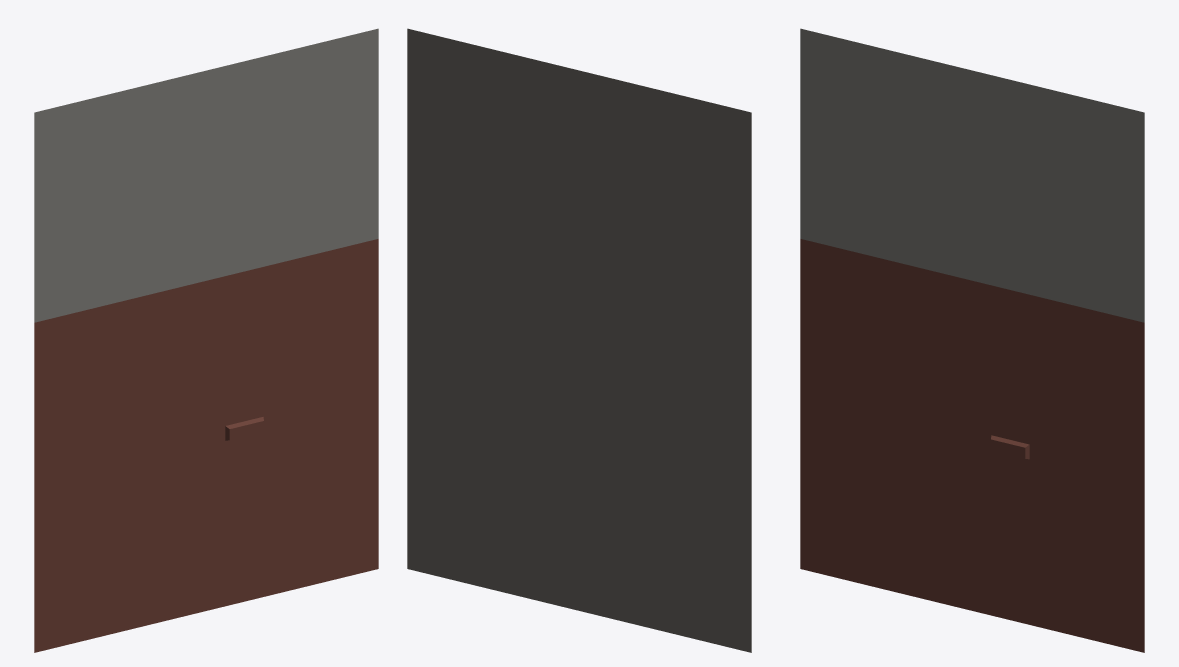
File: kit_city_trim_half.glb
3 views of the same model, side by side, from view 1: azimuth 30°, elevation 25°; view 2: azimuth 150°, elevation 25°; view 3: azimuth 330°, elevation 25° (orthographic).
Visible parts, largest first — view 1: kit_city_trim_half; view 2: kit_city_trim_half; view 3: kit_city_trim_half.
Boxes of the visible parts, box(x1,y1,x2,y2) form: kit_city_trim_half: box(34, 28, 378, 652); kit_city_trim_half: box(407, 28, 751, 652); kit_city_trim_half: box(800, 28, 1144, 652).
Size of the model in its own units: 2 by 3 by 0.2247.
